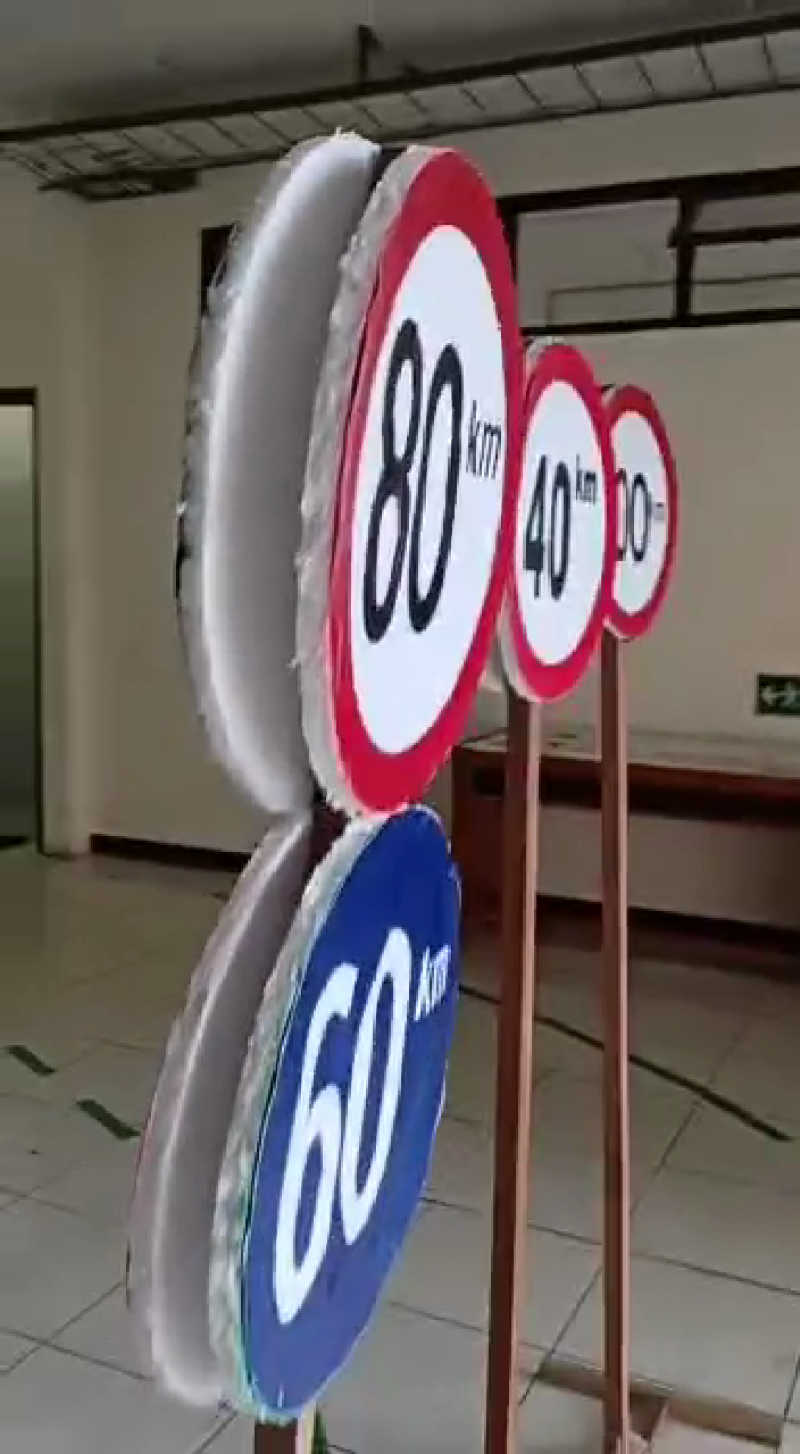batas maksimal 40kmperjam: (491, 329, 617, 709)
batas maksimal 80kmperjam minimal 60kmperjam: (214, 131, 529, 1437)
